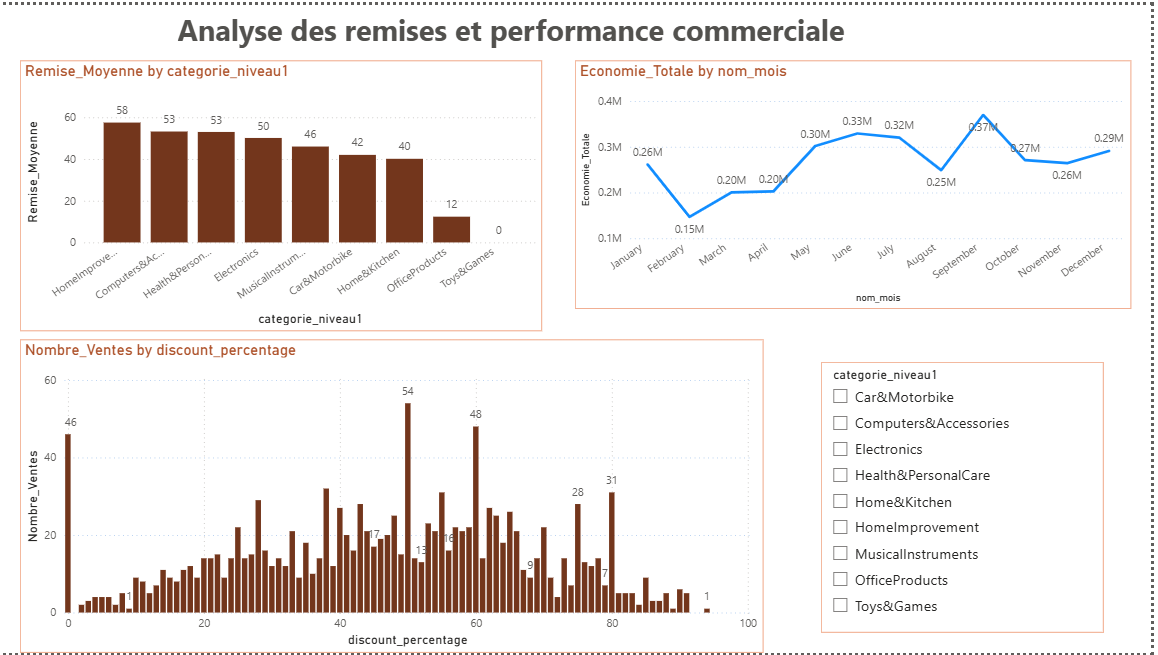

What the dashboard file says about the page in this screenshot:
{"tool":"powerbi","page":{"name":"Analyse Remises","canvas":[1280,720],"ordinal":2},"visuals":[{"type":"textbox","box":[192.8,0,784.3,62.4],"z":0},{"type":"columnChart","fields":{"Category":["Dim_Categorie.categorie_niveau1"],"Y":["Dim_Categorie.Remise_Moyenne"]},"box":[22.7,62.4,580.2,300.5],"z":1},{"type":"lineChart","fields":{"Category":["Dim_Date.nom_mois"],"Y":["Dim_Categorie.Economie_Totale"]},"box":[639.4,61.6,618,275.9],"z":2},{"type":"clusteredColumnChart","fields":{"Y":["Dim_Categorie.Nombre_Ventes"],"Category":["Fait_Ventes.discount_percentage"]},"box":[22.7,372.3,825.8,347.7],"z":3},{"type":"slicer","fields":{"Values":["Dim_Categorie.categorie_niveau1"]},"box":[912.8,396.7,313.7,300.5],"z":4}]}

Visuals, with their boxes in screenshot pixels (x1, y1, x2, y2), scaled from the page's 1280x720 canvas onto the 1158x655 screenshot:
textbox: (174,0,884,57)
columnChart - Dim_Categorie.categorie_niveau1 x Dim_Categorie.Remise_Moyenne: (21,57,545,330)
lineChart - Dim_Date.nom_mois x Dim_Categorie.Economie_Totale: (578,56,1138,307)
clusteredColumnChart - Dim_Categorie.Nombre_Ventes x Fait_Ventes.discount_percentage: (21,339,768,654)
slicer - Dim_Categorie.categorie_niveau1: (826,361,1110,634)
